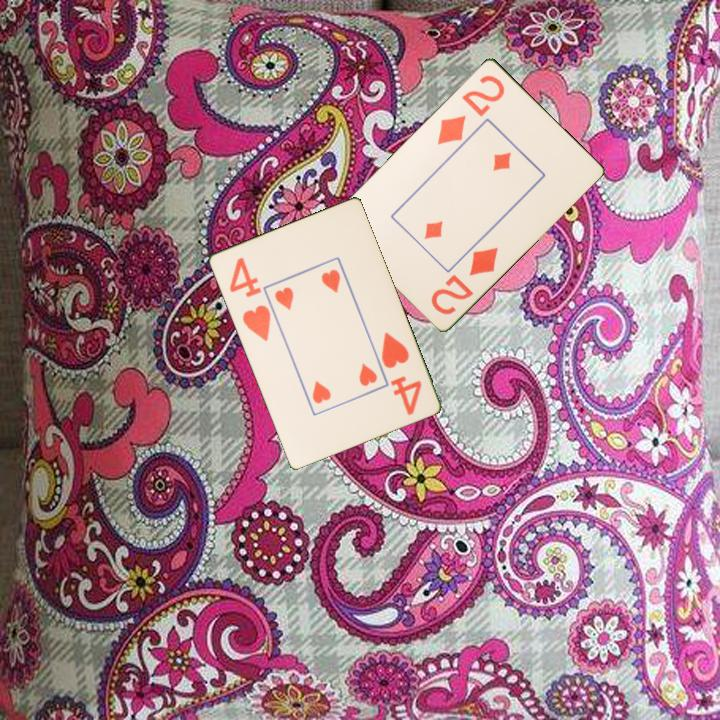2d: (433, 71, 508, 147), (427, 243, 501, 317)
4h: (225, 253, 273, 344), (377, 328, 424, 418)
